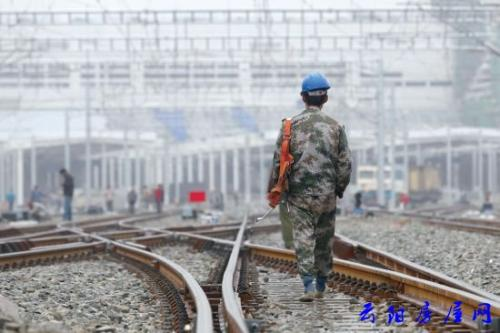boots: (299, 290, 314, 301), (314, 289, 324, 298)
gloves: (266, 190, 281, 207), (335, 187, 344, 199)
hard-hat: (301, 71, 331, 93)
person: (266, 72, 353, 302)
ppe-suit: (265, 107, 353, 293)
